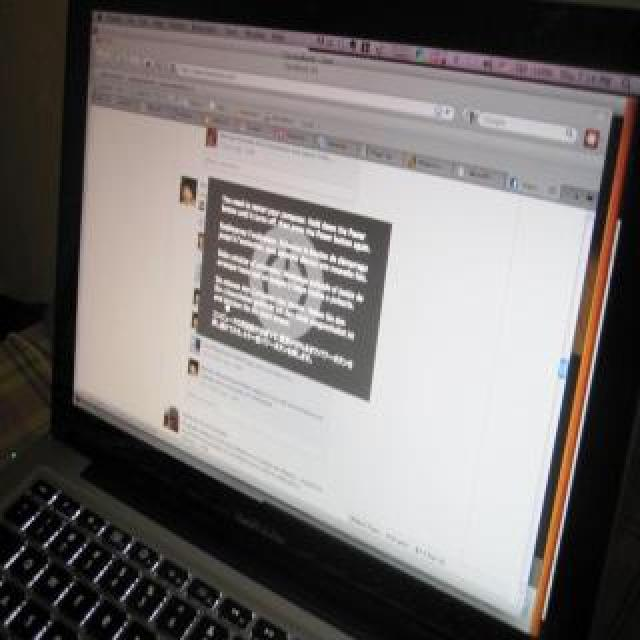laptop_computer: (46, 10, 604, 640)
